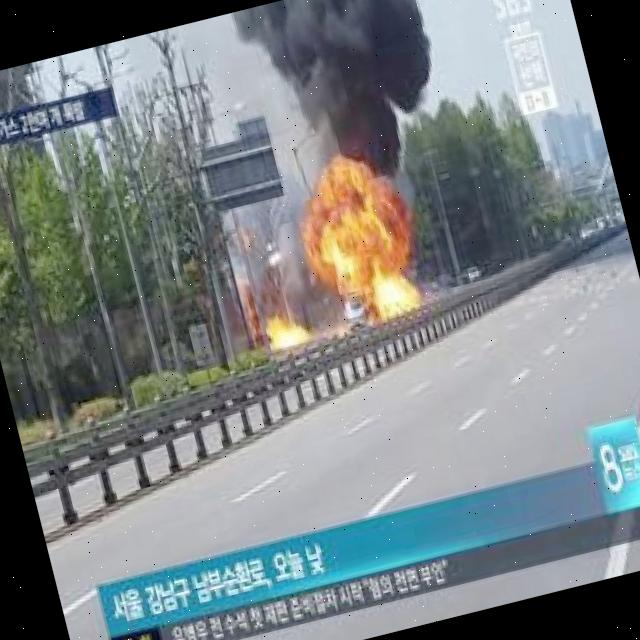fire: (301, 192, 419, 292), (309, 158, 379, 213), (364, 272, 428, 318), (266, 310, 314, 350)
